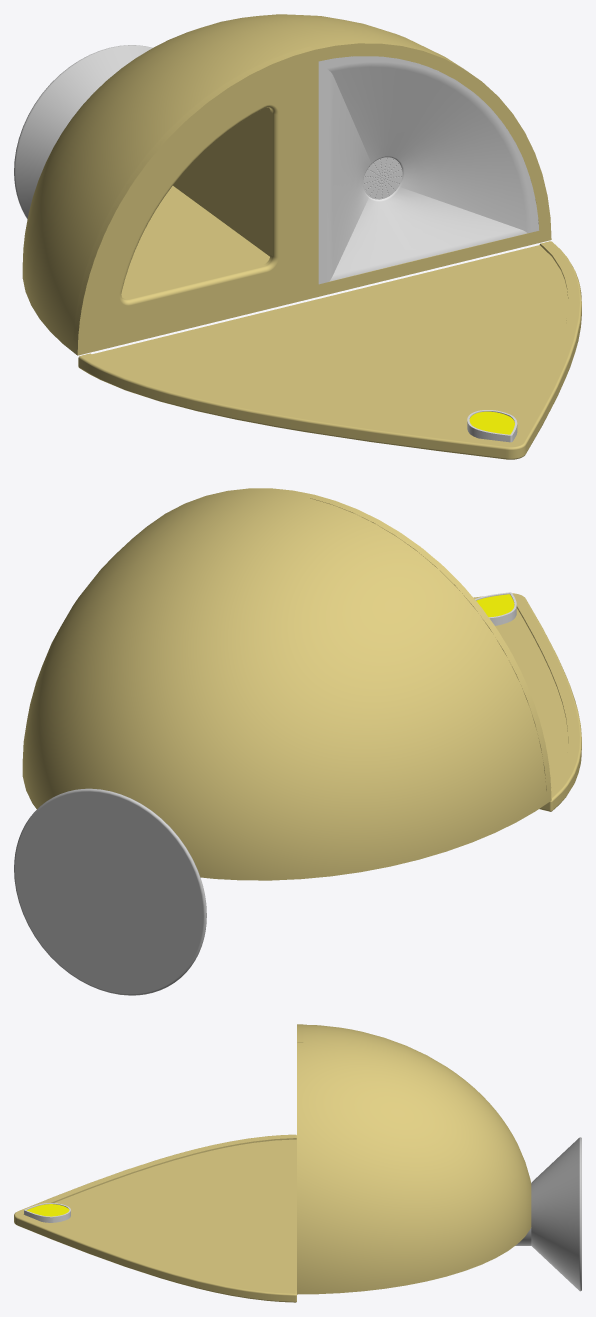
Rendered from OilContainer.glb.
The picture shows the model from 3 angles, top to bottom: view 1: azimuth 30°, elevation 25°; view 2: azimuth 150°, elevation 25°; view 3: azimuth 270°, elevation 25°; orthographic projection. The views are drawn at different scales.
Visible parts, largest first — view 1: Body11, Body12, Body17, Body6, Body10, Body13, Body21, Body20, Body18; view 2: Body12, Body21, Body11, Body6; view 3: Body12, Body11, Body21, Body18, Body20.
Part boxes in pixels (x1,y1,x2,y2): Body11: [78, 241, 581, 459]; Body12: [22, 14, 551, 355]; Body17: [318, 56, 539, 284]; Body6: [73, 46, 314, 342]; Body10: [89, 186, 539, 352]; Body13: [173, 61, 318, 293]; Body21: [14, 45, 152, 219]; Body20: [469, 411, 514, 434]; Body18: [467, 410, 517, 442]; Body12: [22, 488, 551, 880]; Body21: [14, 788, 206, 995]; Body11: [473, 593, 581, 811]; Body6: [310, 494, 551, 791]; Body12: [297, 1024, 531, 1294]; Body11: [14, 1134, 296, 1302]; Body21: [531, 1137, 581, 1291]; Body18: [24, 1203, 70, 1222]; Body20: [27, 1204, 69, 1216].
Bounding box in the file's own units: 120 × 84.35 × 179.
